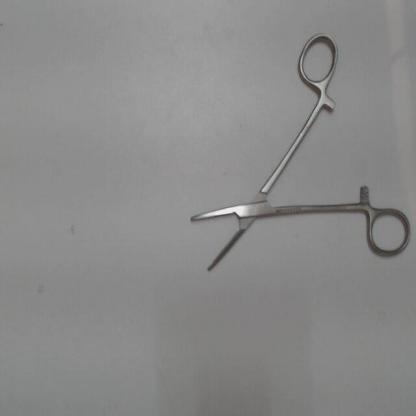Mayo Needle Holder: (183, 25, 414, 285)
